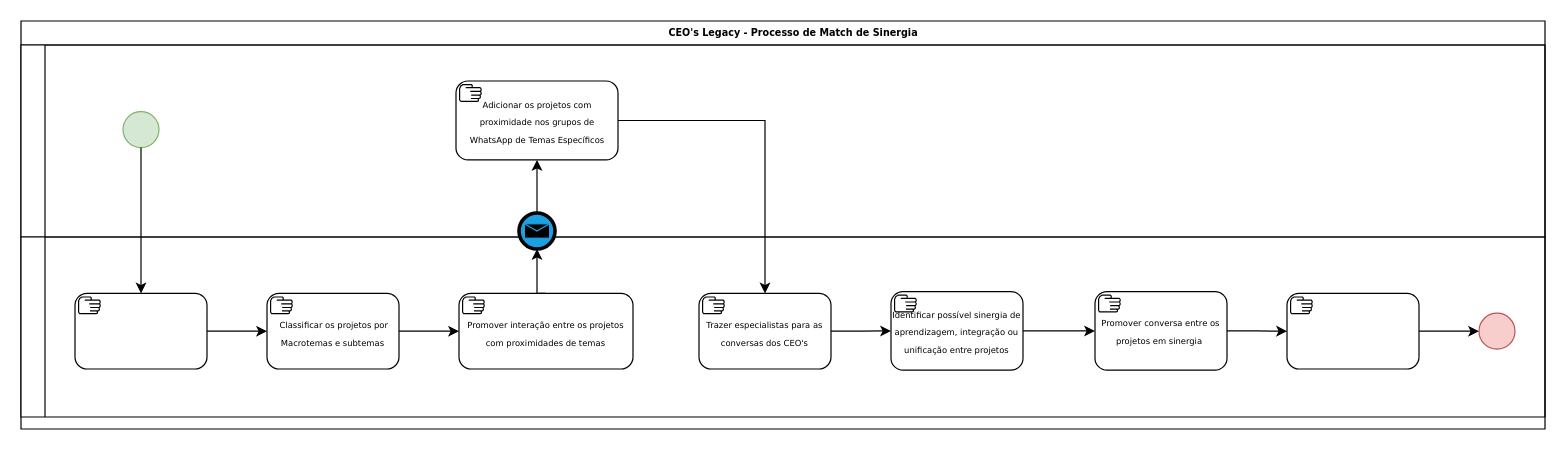
Image size: 1566x450. Some labels were removed from this diagram. The box of each missing label's shape, as (x1, y1, x2, y2) in pixels:
ADMINISTRATIVO: (20, 44, 1545, 237)
ESTRATÉGICO: (20, 236, 1545, 417)
Ler os projetos cadastrados no CEO's Legacy: (74, 292, 207, 369)
Verificar os objetivos de impacto de cada projeto: (1286, 292, 1419, 369)
